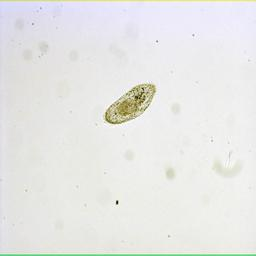Paramecium: (104, 83, 157, 124)
